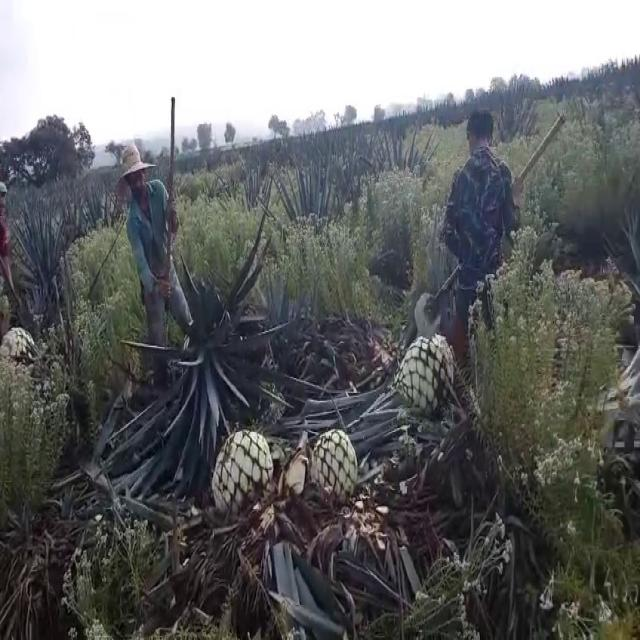agave: (392, 330, 455, 427), (210, 430, 274, 524), (309, 424, 359, 506), (0, 321, 32, 382)
